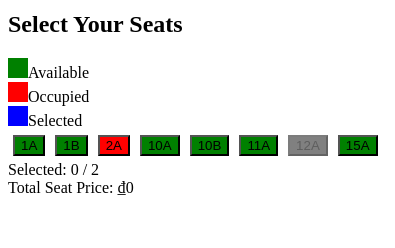
Test case: TC-TRV-SEAT: Traveler Seat Selection Tests › TC-TRV-SEAT-009: should prevent selecting 3rd seat when max is 2 passengers
This screenshot has width=395, height=248.
# Select first seat
Click the button with test id "seat-10A" at (160, 145), box [140,135,180,156]
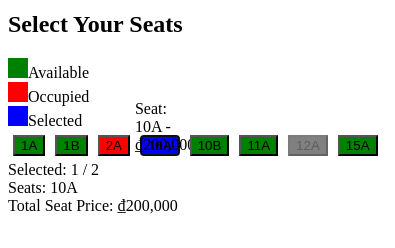
Result: the text with test id "selected-count" reads "Selected: 1 / 2" at [8,161,99,178]
# Select second seat
Click the button with test id "seat-10B" at (210, 145), box [190,135,229,156]
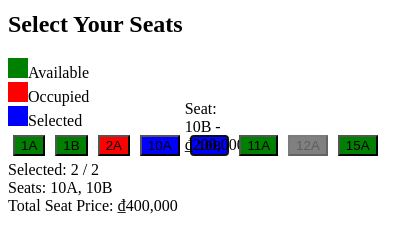
Result: the text with test id "selected-count" reads "Selected: 2 / 2" at [8,161,99,178]
Click the button with test id "seat-11A" at (259, 145), box [239,135,278,156]
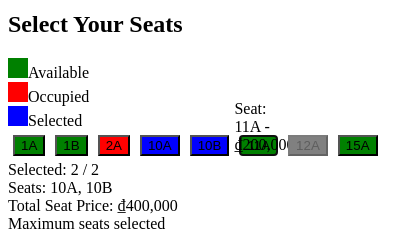
Result: the text with test id "selected-count" reads "Selected: 2 / 2" at [8,161,99,178]
Result: the text with test id "selected-list" reads "Seats: 10A, 10B" at [8,179,112,196]
Result: the text with test id "seat-error" reads "Maximum seats selected" at [8,215,165,232]
